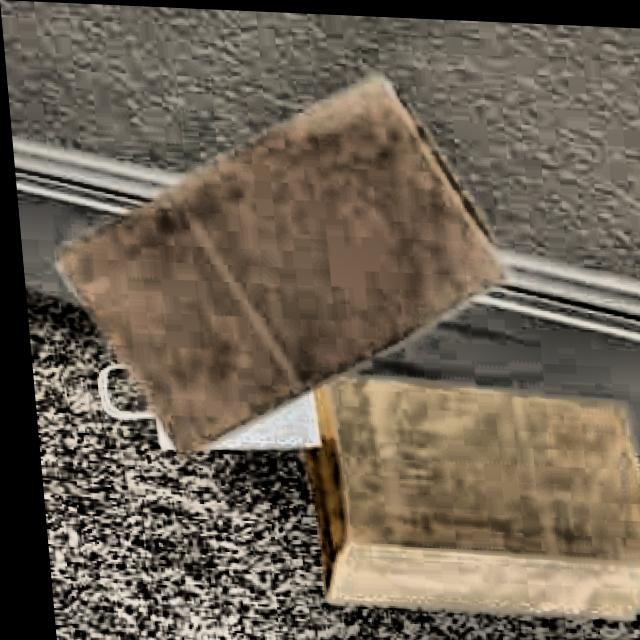Paper-bag: (54, 57, 515, 468), (254, 361, 640, 634)
